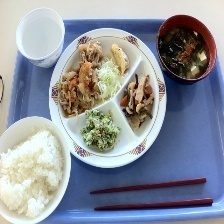rice: (0, 129, 65, 217)
